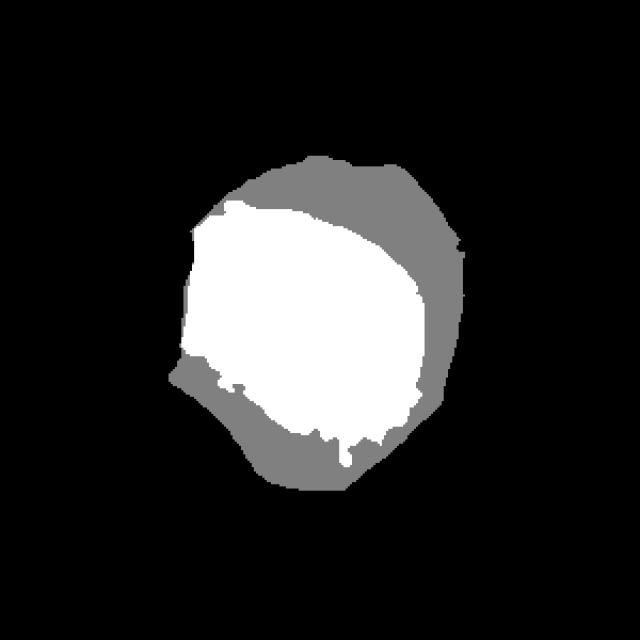WBC: (151, 126, 493, 503)
